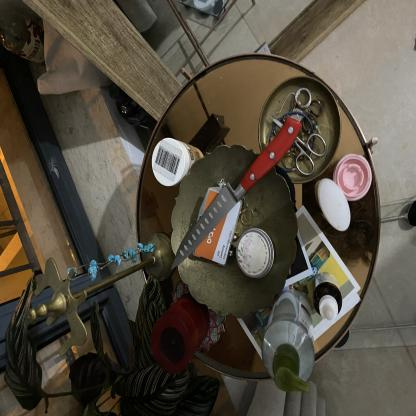Knife: (167, 117, 302, 276)
scissors: (274, 118, 328, 176)
